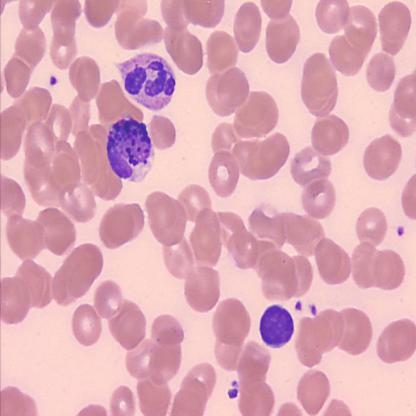Basophil: (116, 50, 178, 112), (105, 115, 155, 182), (257, 301, 295, 349)
